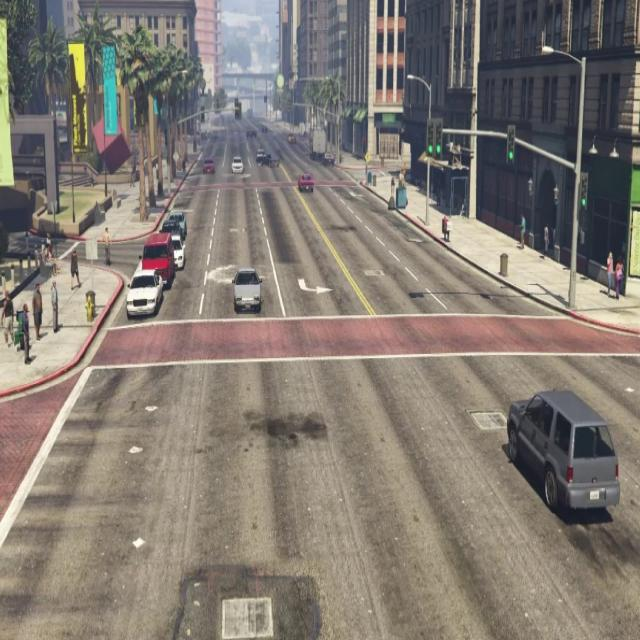Green-Signal: (422, 108, 447, 172), (504, 120, 518, 172), (578, 166, 591, 218)
